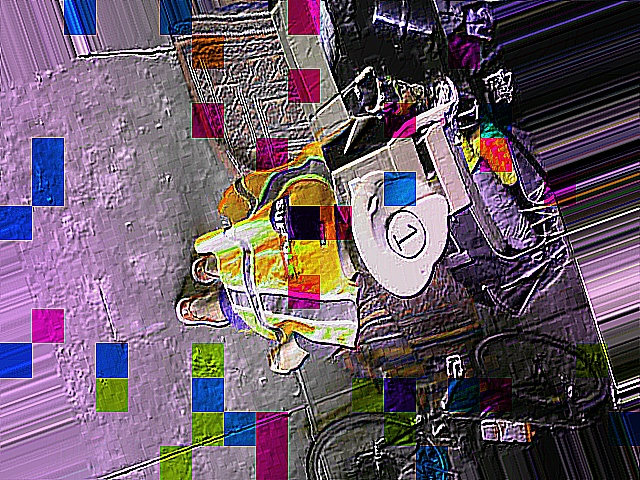one: (380, 204, 432, 263)
